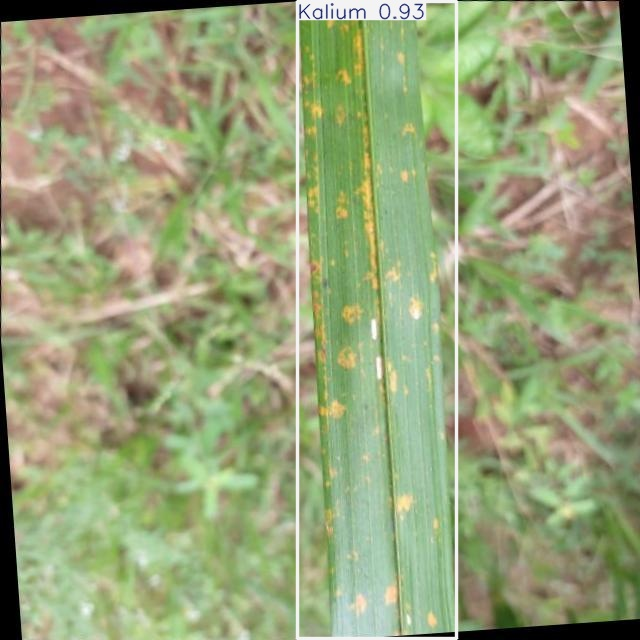Kalium: (297, 1, 456, 639)
